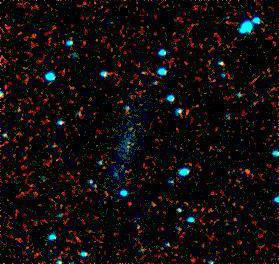star: (234, 152, 264, 182)
